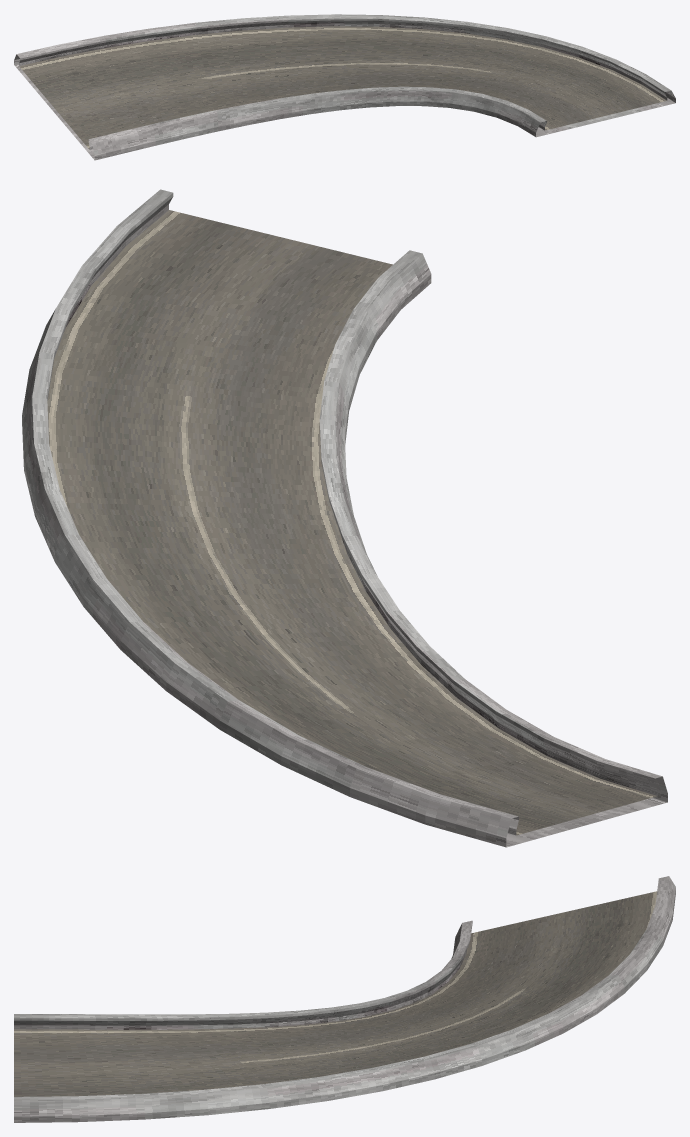
Rendered from road-Turn-Flat-HalfBankedLeft-Down2-Left-Size3.glb.
The picture shows the model from 3 angles, top to bottom: view 1: azimuth 30°, elevation 25°; view 2: azimuth 150°, elevation 25°; view 3: azimuth 270°, elevation 25°; orthographic projection. The views are drawn at different scales.
Visible parts, largest first — view 1: road-Turn-Flat-HalfBankedLeft-Down2-Left-Size3; view 2: road-Turn-Flat-HalfBankedLeft-Down2-Left-Size3; view 3: road-Turn-Flat-HalfBankedLeft-Down2-Left-Size3.
Part boxes in pixels (x1,y1,x2,y2): road-Turn-Flat-HalfBankedLeft-Down2-Left-Size3: (14, 14, 675, 160); road-Turn-Flat-HalfBankedLeft-Down2-Left-Size3: (22, 189, 667, 847); road-Turn-Flat-HalfBankedLeft-Down2-Left-Size3: (14, 876, 675, 1122).
Bounding box in the file's own units: 3 × 0.5938 × 3.
Materials: 2 (2 with a texture image).
